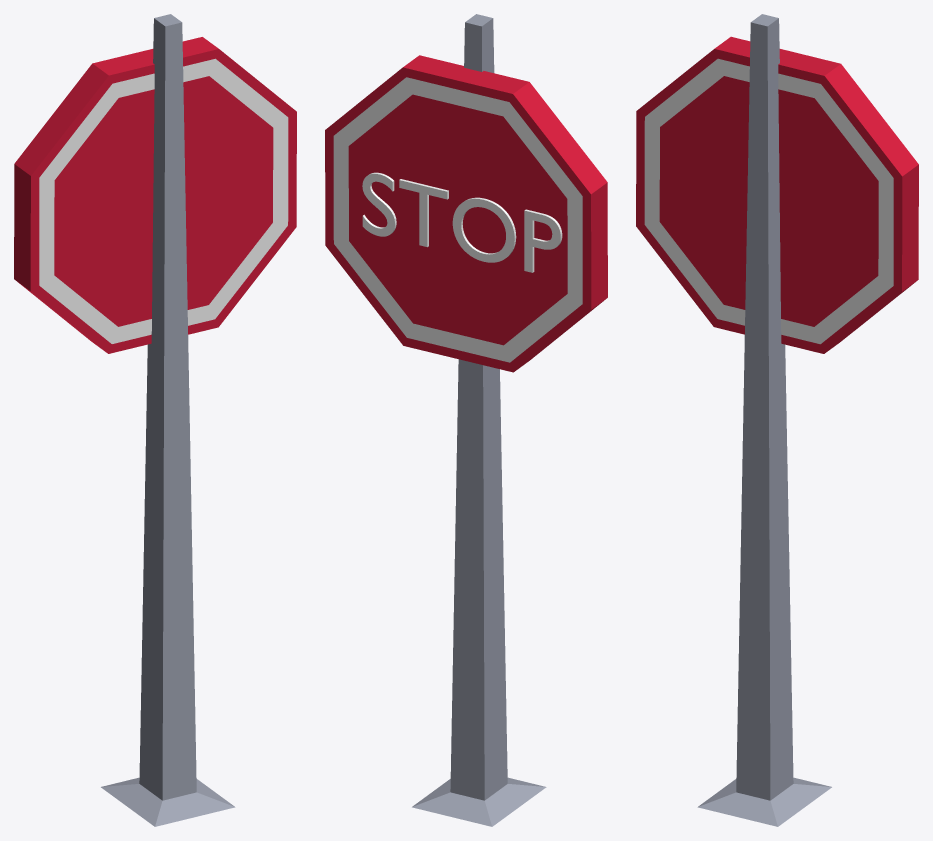
Rendered from Stop_Sign.glb.
3 renders of one model, left to right at view 1: azimuth 30°, elevation 25°; view 2: azimuth 150°, elevation 25°; view 3: azimuth 330°, elevation 25°, orthographic.
Visible parts, largest first — view 1: Sign-Col; view 2: Sign-Col; view 3: Sign-Col.
Part boxes in pixels (x1,y1,x2,y2): Sign-Col: (14,14,296,826); Sign-Col: (325,14,607,826); Sign-Col: (636,14,918,826).
Size of the model in its own units: 1.51 by 4.2 by 0.5349.
